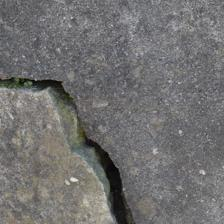Crack: (18, 13, 71, 122), (72, 17, 103, 145)
